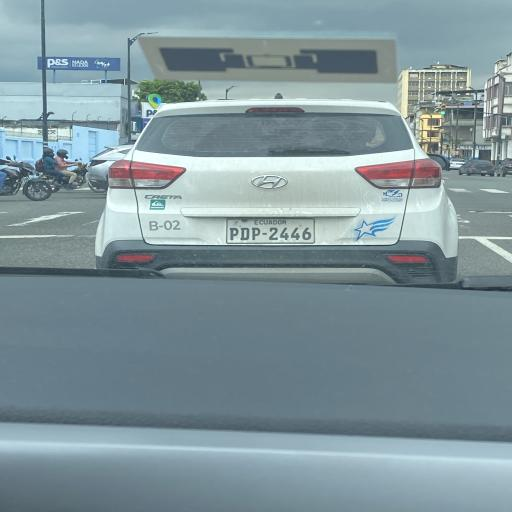license_plate: (227, 219, 314, 244)
